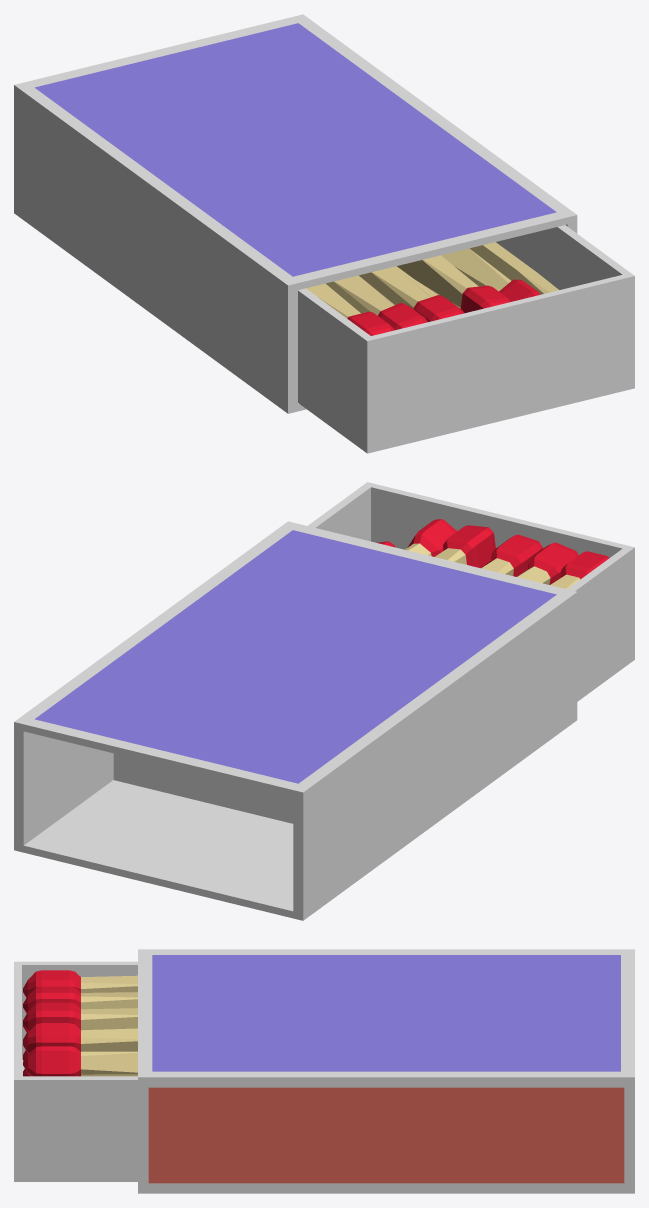
The model's file is Matches.fbx.
The picture shows the model from 3 angles, top to bottom: view 1: azimuth 30°, elevation 25°; view 2: azimuth 150°, elevation 25°; view 3: azimuth 270°, elevation 25°; orthographic projection. The views are drawn at different scales.
Visible parts, largest first — view 1: Cube, Cube.001, Cube.003; view 2: Cube, Cube.001, Cube.003; view 3: Cube, Cube.001, Cube.003.
Part boxes in pixels (box(x1,y1,x2,y2)): Cube: box(14, 14, 577, 413); Cube.001: box(298, 225, 634, 453); Cube.003: box(306, 242, 558, 335); Cube: box(14, 521, 577, 920); Cube.001: box(113, 482, 634, 823); Cube.003: box(376, 519, 609, 589); Cube: box(138, 949, 634, 1193); Cube.001: box(14, 961, 137, 1181); Cube.003: box(23, 970, 137, 1076).
Bounding box in the file's own units: 204 × 86.41 × 418.
